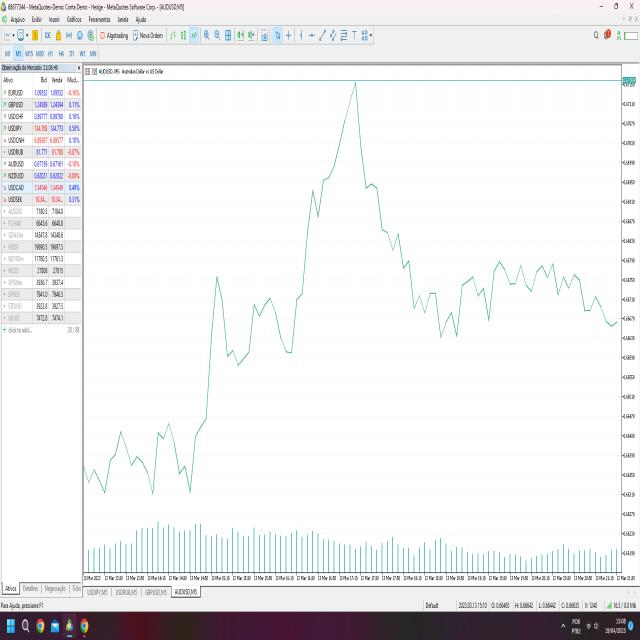fundo_duplo: (126, 390, 203, 510)
oco: (300, 75, 387, 258)
